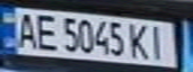0: (75, 17, 93, 54)
4: (90, 19, 112, 56)
5: (57, 15, 81, 53), (109, 19, 127, 57)
A: (12, 9, 39, 50)
E: (33, 11, 60, 52)
I: (145, 22, 172, 61)
K: (124, 20, 154, 61)
